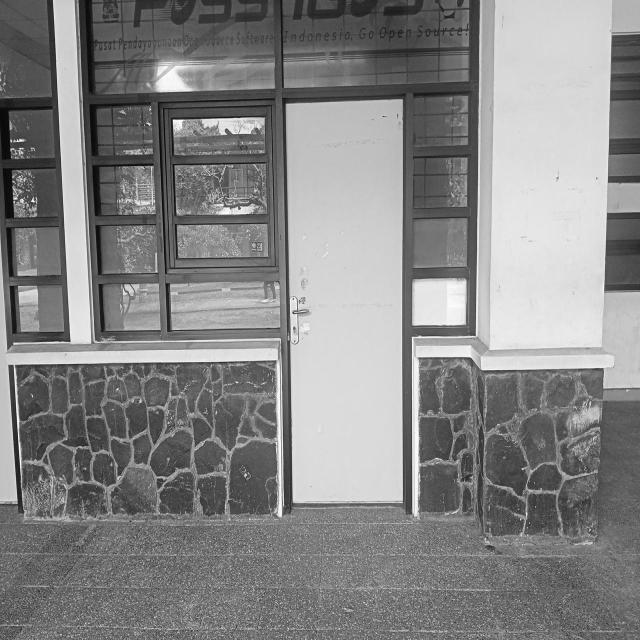door: (278, 88, 417, 514)
